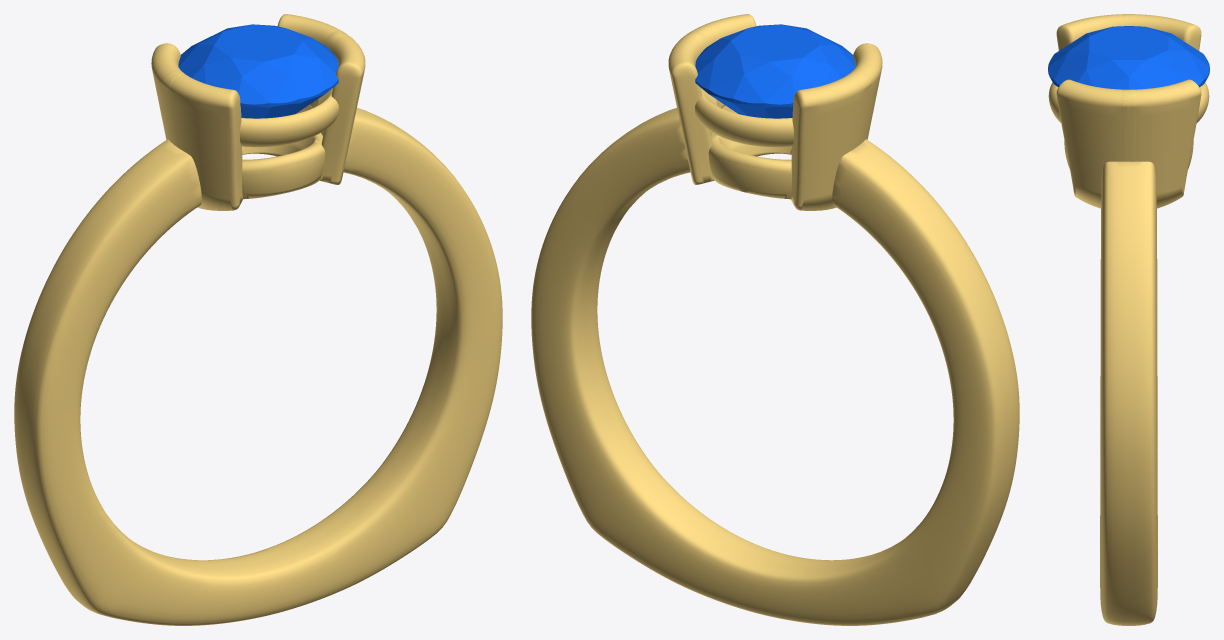
Rendered from bluesapphire-round-yellowgold-halfmoonbezel-europeanshank-nosidestones.glb.
3 renders of one model, left to right at view 1: azimuth 30°, elevation 25°; view 2: azimuth 150°, elevation 25°; view 3: azimuth 270°, elevation 25°, orthographic. The views are drawn at different scales.
Visible parts, largest first — view 1: metal, stone; view 2: metal, stone; view 3: metal, stone.
Part boxes in pixels (box(x1,y1,x2,y2)): metal: box(14, 14, 502, 625); stone: box(178, 24, 338, 118); metal: box(531, 14, 1019, 625); stone: box(695, 24, 855, 118); metal: box(1048, 14, 1209, 625); stone: box(1048, 26, 1209, 89).
Bounding box in the file's own units: 20.7 × 23.81 × 6.44.
